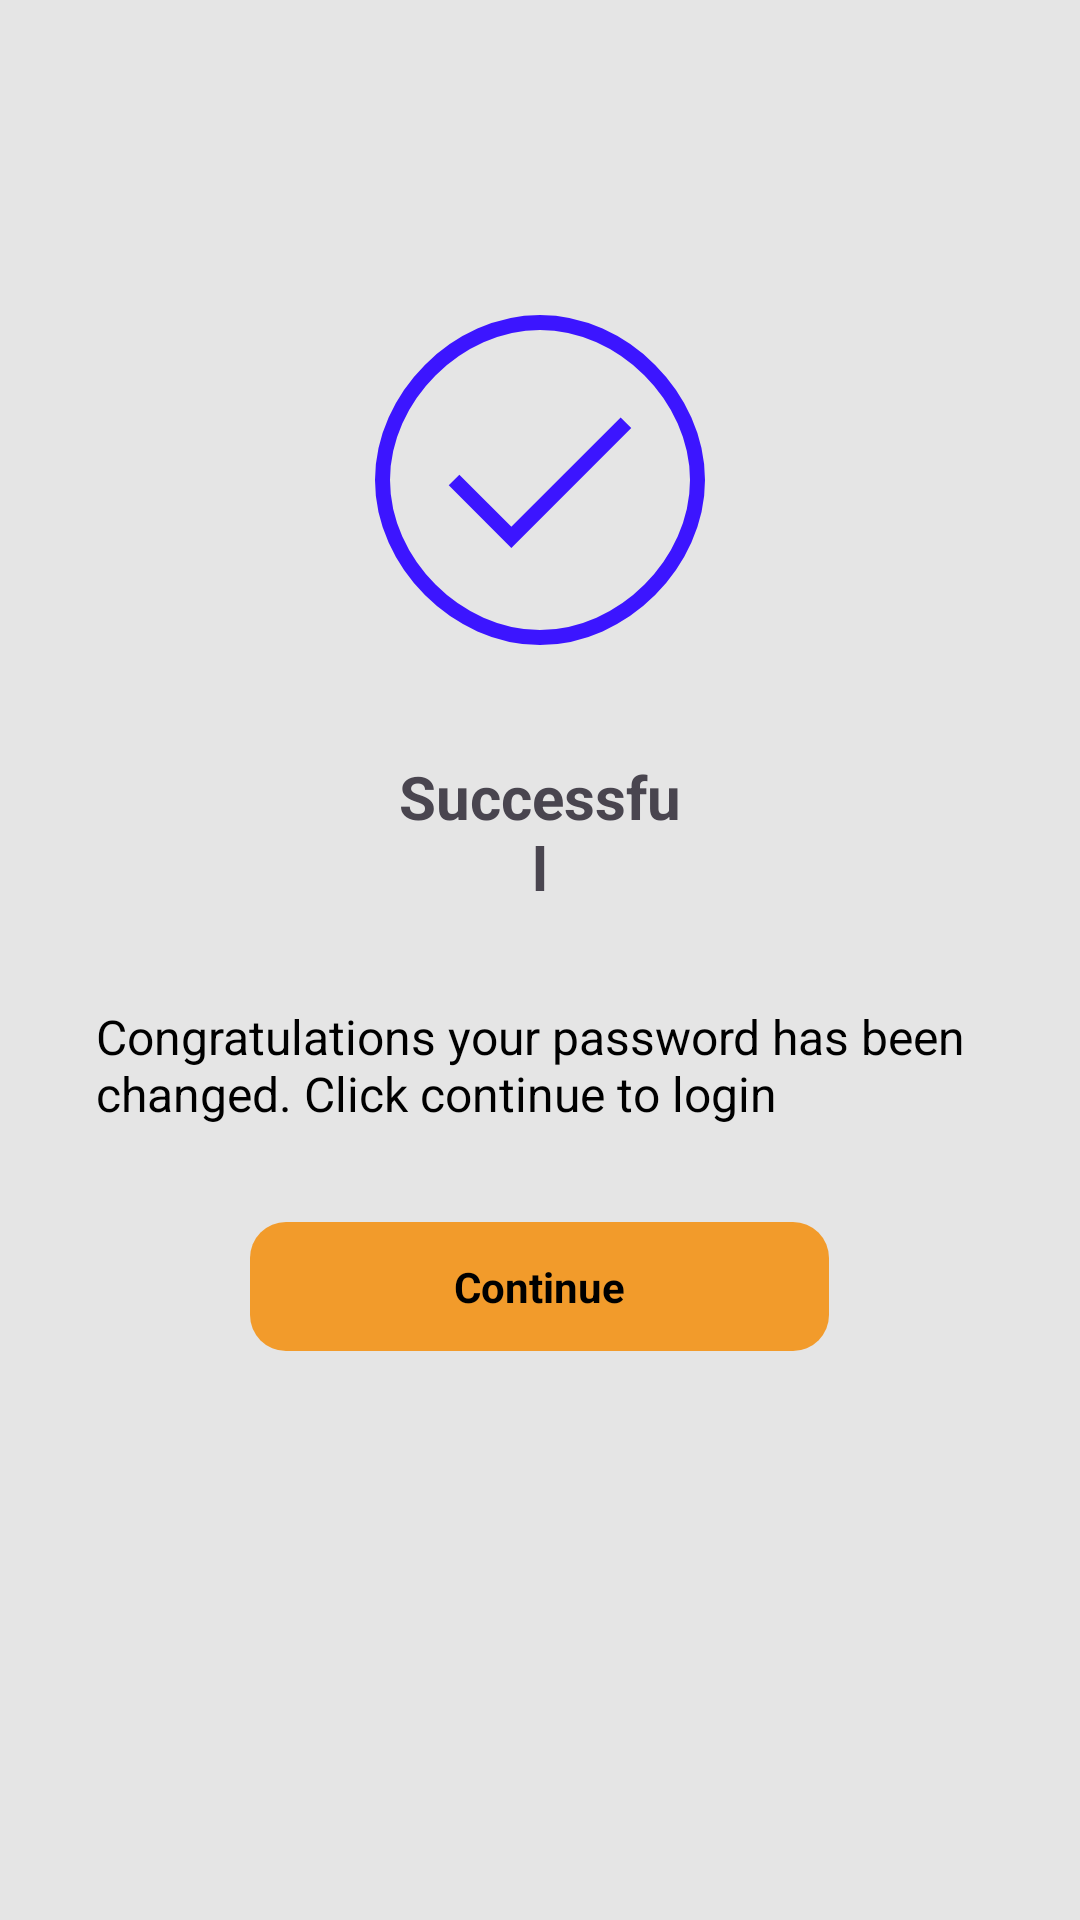

Icon click points for this 1080×1920 phone screenshot, format (x=x, y=y):
check circle: (x=540, y=480)
